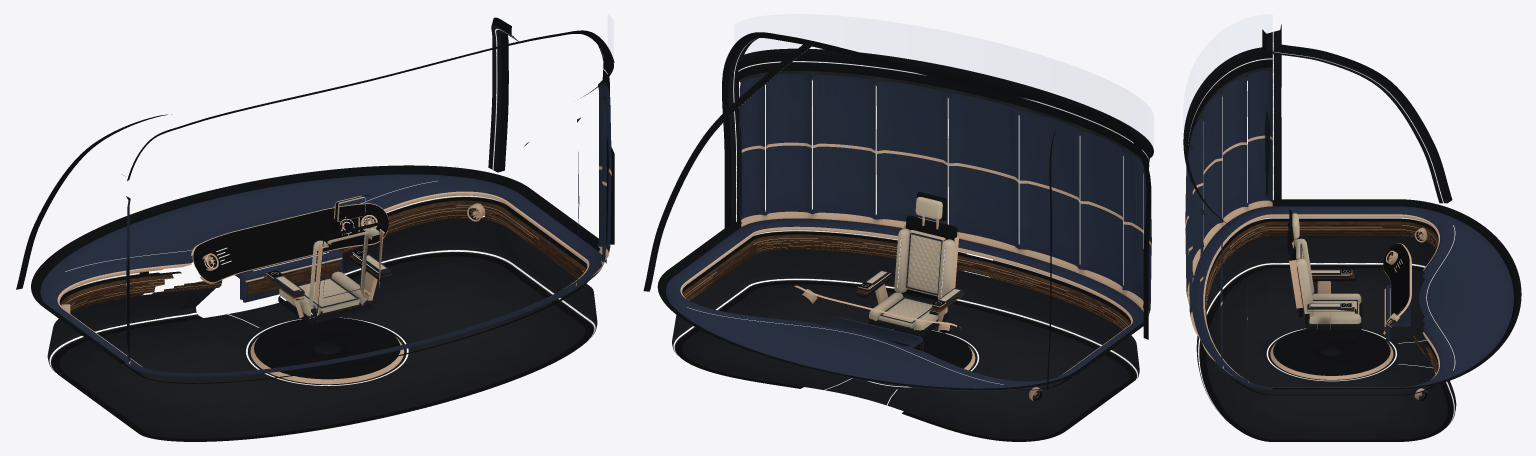
Rendered from vr-cockpit-transformed.glb.
3 views of the same model, side by side, from view 1: azimuth 30°, elevation 25°; view 2: azimuth 150°, elevation 25°; view 3: azimuth 270°, elevation 25° (orthographic). The views are drawn at different scales.
Visible parts, largest first — view 1: cabin, lights; view 2: cabin, lights; view 3: cabin, lights.
Boxes of the visible parts, <box> form: cabin: <box>16,17,614,441</box>; lights: <box>49,28,607,385</box>; cabin: <box>643,32,1153,441</box>; lights: <box>673,39,1149,405</box>; cabin: <box>1183,24,1521,441</box>; lights: <box>1188,32,1455,426</box>.
Size of the model in its own units: 4.92 by 2.93 by 3.56.
3 materials, 2 textured.
